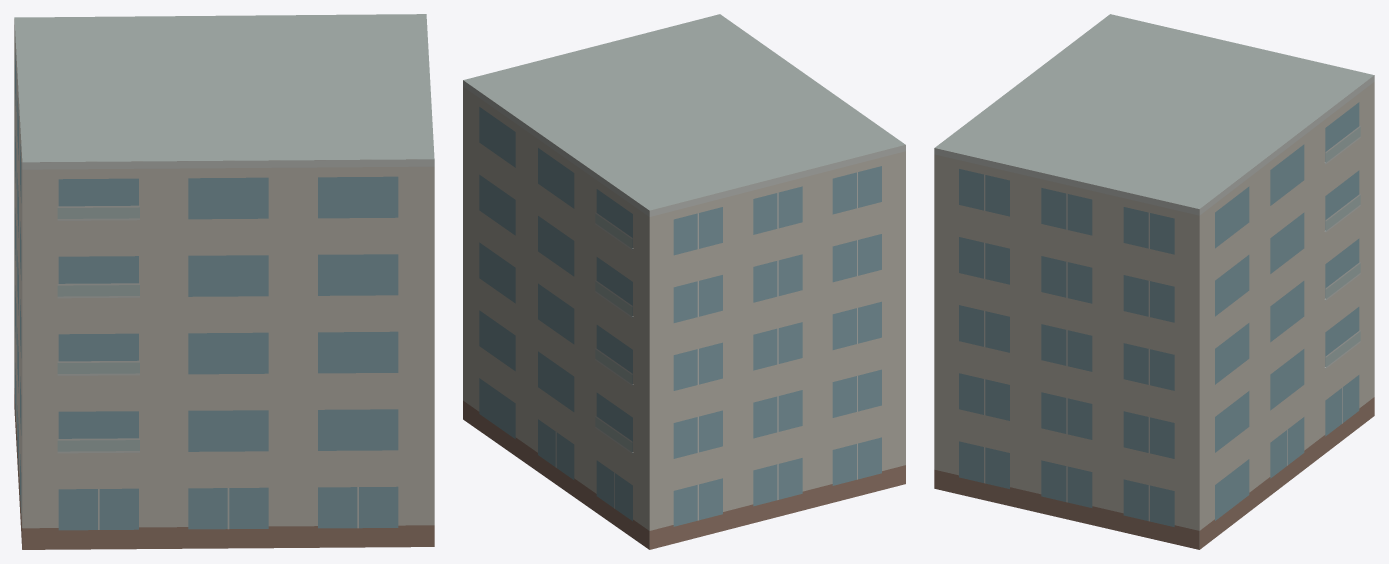
Rendered from survey-upis-32947503.glb.
3 views of the same model, side by side, from view 1: azimuth 30°, elevation 25°; view 2: azimuth 150°, elevation 25°; view 3: azimuth 270°, elevation 25° (orthographic). The views are drawn at different scales.
Parts seen in each view (by area): view 1: survey-upis-32947503.tmp; view 2: survey-upis-32947503.tmp; view 3: survey-upis-32947503.tmp.
Part boxes in pixels (x1,y1,x2,y2): survey-upis-32947503.tmp: [14, 14, 434, 549]; survey-upis-32947503.tmp: [463, 14, 905, 549]; survey-upis-32947503.tmp: [934, 14, 1374, 549].
Bounding box in the file's own units: 15.73 × 12.8 × 14.99.
